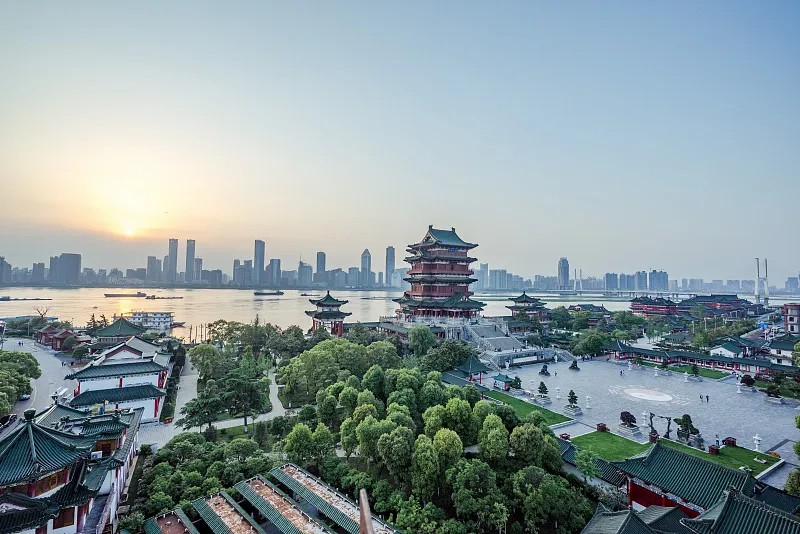Teng: (392, 226, 487, 320)
